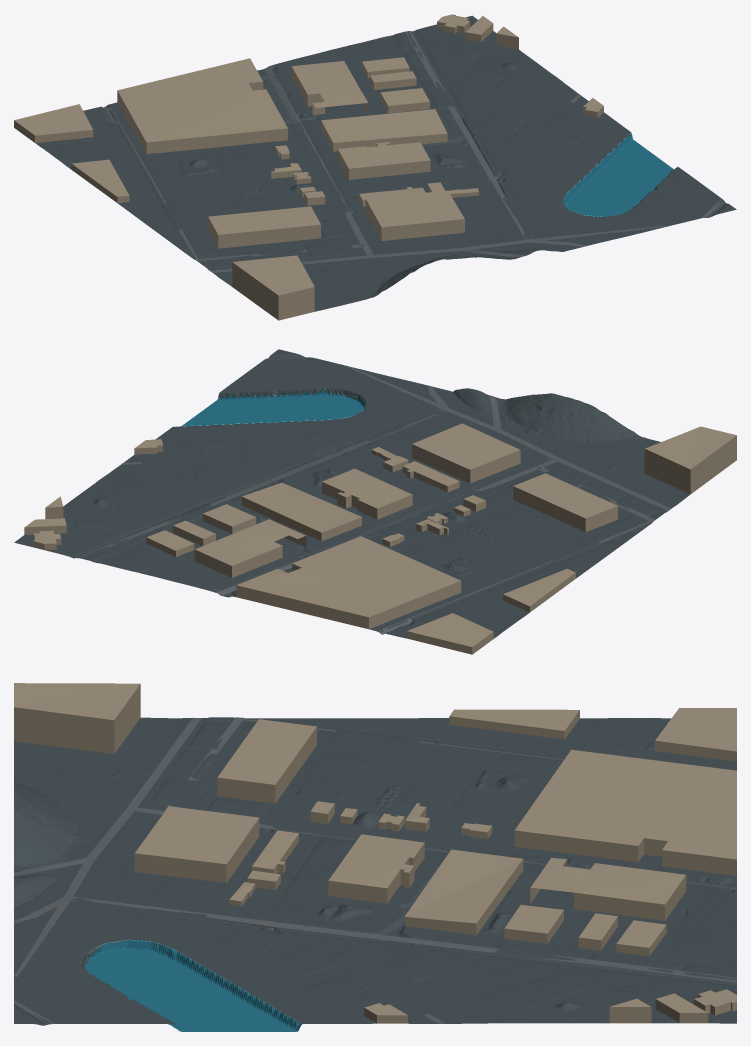
The model's file is epsg26910-1447-10873.lod0.glb.
3 renders of one model, top to bottom at view 1: azimuth 30°, elevation 25°; view 2: azimuth 150°, elevation 25°; view 3: azimuth 270°, elevation 25°, orthographic. The views are drawn at different scales.
Parts seen in each view (by area): view 1: epsg26910-1447-10873-lod0; view 2: epsg26910-1447-10873-lod0; view 3: epsg26910-1447-10873-lod0.
Boxes of the visible parts, x1,y1,x2,y2 form: epsg26910-1447-10873-lod0: [14, 14, 736, 320]; epsg26910-1447-10873-lod0: [14, 349, 736, 654]; epsg26910-1447-10873-lod0: [14, 683, 736, 1031].
Bounding box in the file's own units: 384 × 25.31 × 384.
